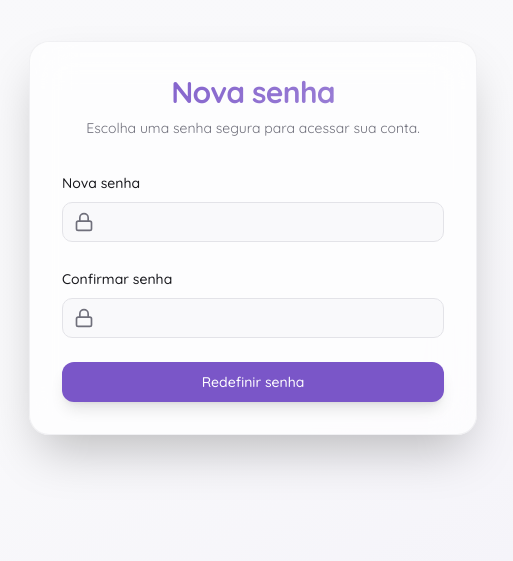
Test: ResetPassword — validação de política e redirect › mostra força da senha conforme complexidade
In the password field labelled "Nova senha": [253, 222] box 62,202 -> 444,242, type "Senha@123"
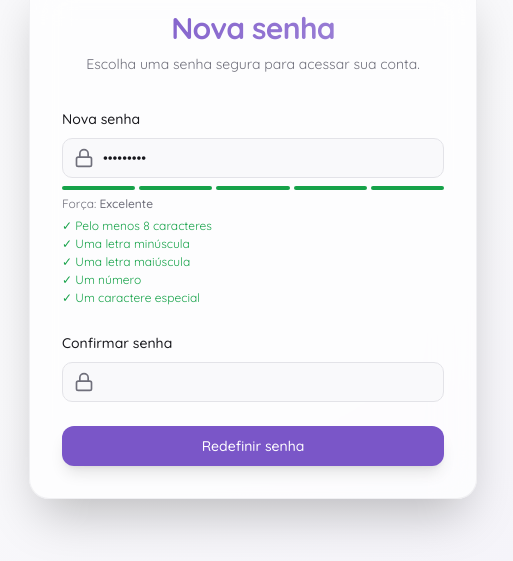
Expected: the element with test id "password-strength" is shown, 62,186 -> 444,306
